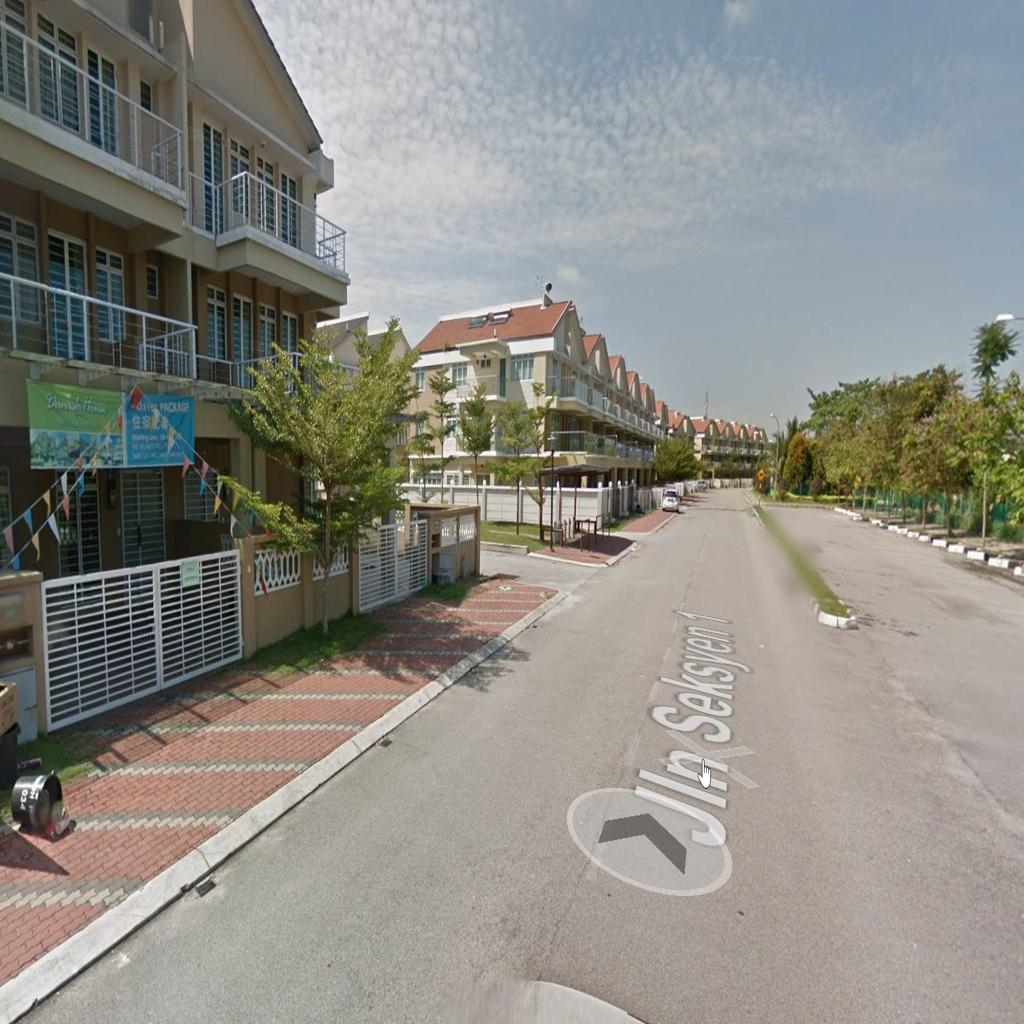Junction: (485, 521, 623, 611)
